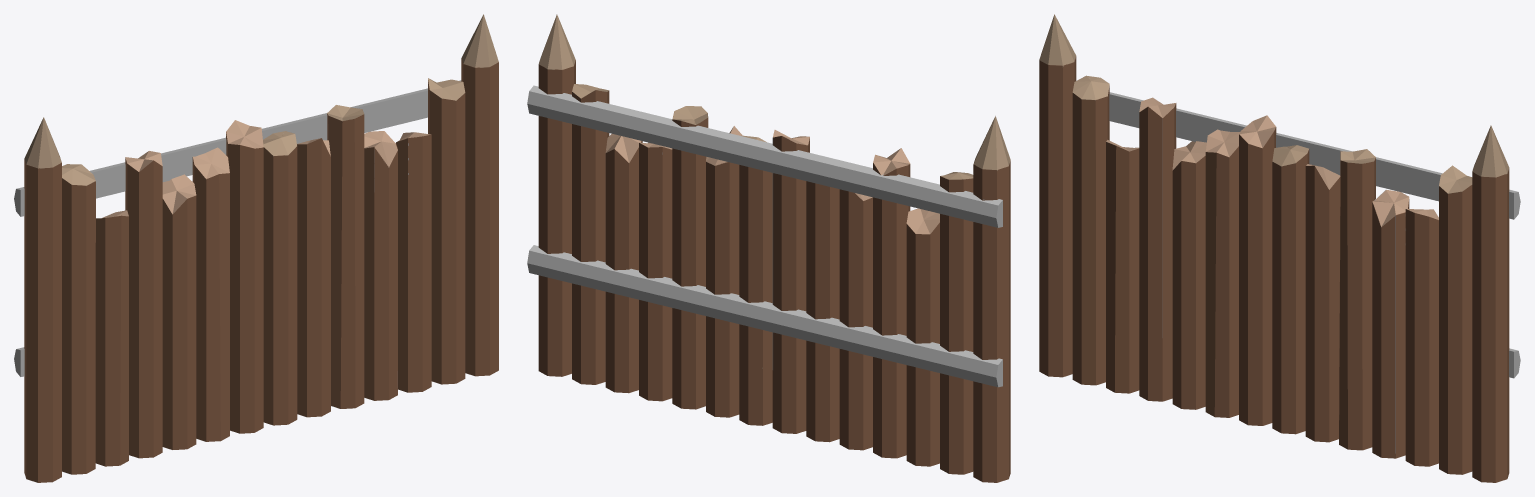
Rendered from Defense_WallModel_D2.fbx.
3 views of the same model, side by side, from view 1: azimuth 30°, elevation 25°; view 2: azimuth 150°, elevation 25°; view 3: azimuth 330°, elevation 25° (orthographic).
Parts seen in each view (by area): view 1: Cylinder, Cube; view 2: Cylinder, Cube; view 3: Cylinder, Cube.
Part boxes in pixels (x1=…): Cylinder: x1=24, y1=14, x2=498, y2=482; Cube: x1=14, y1=80, x2=461, y2=376; Cylinder: x1=538, y1=14, x2=1010, y2=482; Cube: x1=527, y1=85, x2=1002, y2=387; Cylinder: x1=1039, y1=14, x2=1509, y2=482; Cube: x1=1109, y1=92, x2=1520, y2=378.
Size of the model in its own units: 800 by 584 by 65.11.
Materials: 1 (1 with a texture image).
